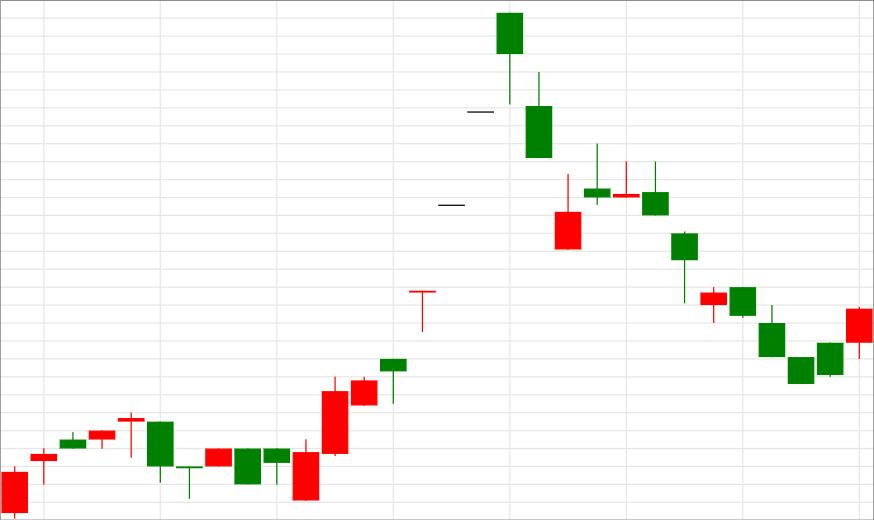hanging_man_fall: (292, 13, 524, 501)
